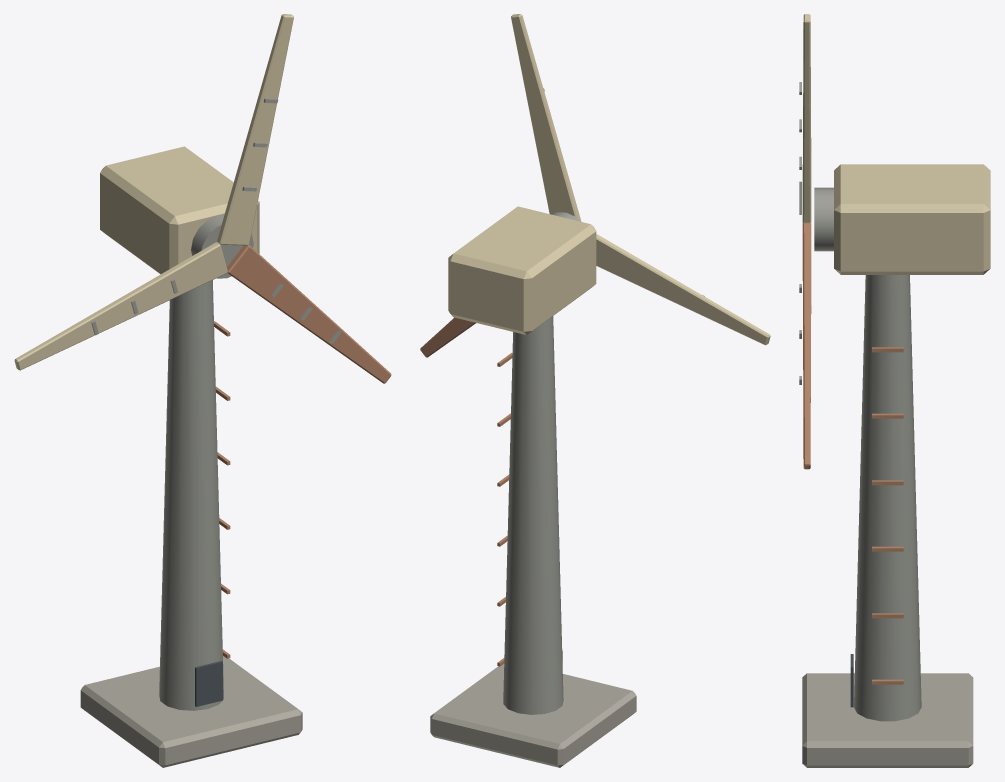
Rendered from waste_turbine.glb.
3 views of the same model, side by side, from view 1: azimuth 30°, elevation 25°; view 2: azimuth 150°, elevation 25°; view 3: azimuth 270°, elevation 25° (orthographic). The views are drawn at different scales.
Parts seen in each view (by area): view 1: duststeel, concrete, paint, paint.001, paint.002, rust, blacksteel, duststeel.001; view 2: duststeel, paint, concrete, paint.001, paint.002, rust; view 3: duststeel, paint, concrete, rust, paint.001, duststeel.001.
Part boxes in pixels (x1=…): duststeel: x1=159, y1=280, x2=223, y2=710; concrete: x1=80, y1=656, x2=302, y2=767; paint: x1=100, y1=146, x2=259, y2=274; paint.001: x1=217, y1=14, x2=293, y2=245; paint.002: x1=14, y1=242, x2=227, y2=370; rust: x1=227, y1=245, x2=391, y2=383; blacksteel: x1=195, y1=661, x2=222, y2=706; duststeel.001: x1=191, y1=215, x2=253, y2=278; duststeel: x1=503, y1=316, x2=563, y2=714; paint: x1=448, y1=206, x2=596, y2=335; concrete: x1=430, y1=664, x2=636, y2=767; paint.001: x1=511, y1=14, x2=581, y2=221; paint.002: x1=596, y1=234, x2=770, y2=345; rust: x1=420, y1=317, x2=475, y2=357; duststeel: x1=854, y1=275, x2=921, y2=721; paint: x1=834, y1=164, x2=990, y2=274; concrete: x1=802, y1=673, x2=973, y2=767; rust: x1=802, y1=223, x2=811, y2=469; paint.001: x1=802, y1=14, x2=811, y2=222; duststeel.001: x1=814, y1=187, x2=833, y2=251.
Size of the model in its own units: 9.13 by 16.84 by 3.9.
